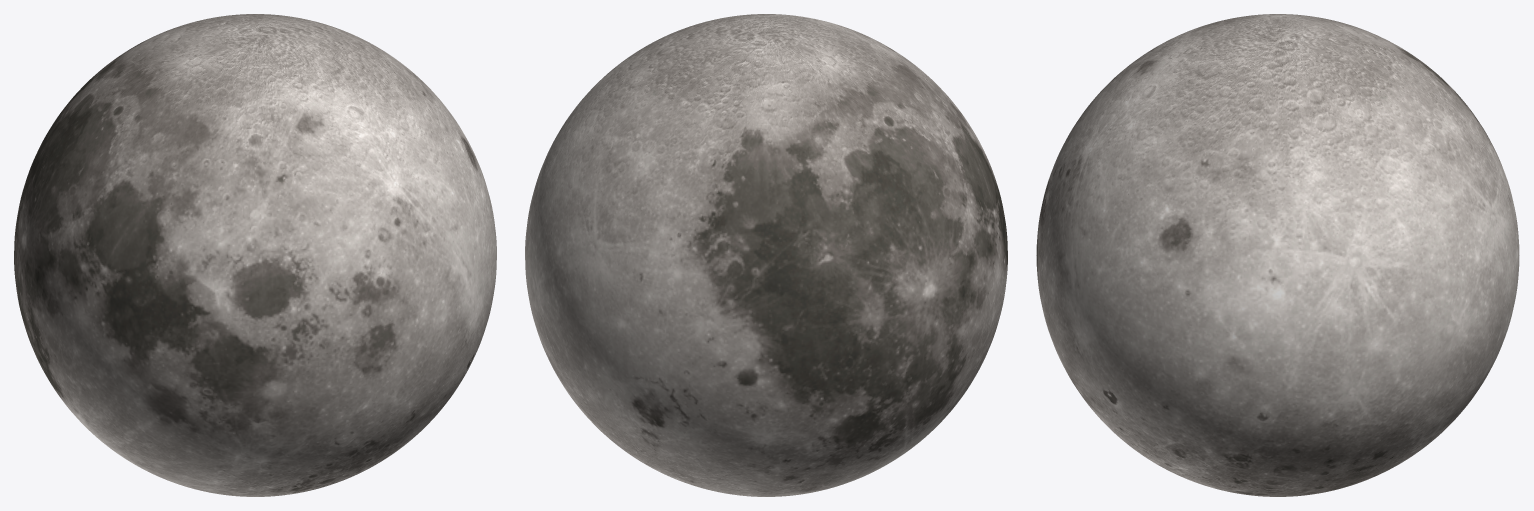
File: moon.glb
3 renders of one model, left to right at view 1: azimuth 30°, elevation 25°; view 2: azimuth 150°, elevation 25°; view 3: azimuth 270°, elevation 25°, orthographic.
Visible parts, largest first — view 1: node_id30; view 2: node_id30; view 3: node_id30.
Part boxes in pixels (x1=…): node_id30: x1=14, y1=14, x2=496, y2=496; node_id30: x1=525, y1=14, x2=1007, y2=496; node_id30: x1=1036, y1=14, x2=1519, y2=496.
Bounding box in the file's own units: 0.512 × 0.512 × 0.512.
Materials: 1 (1 with a texture image).
